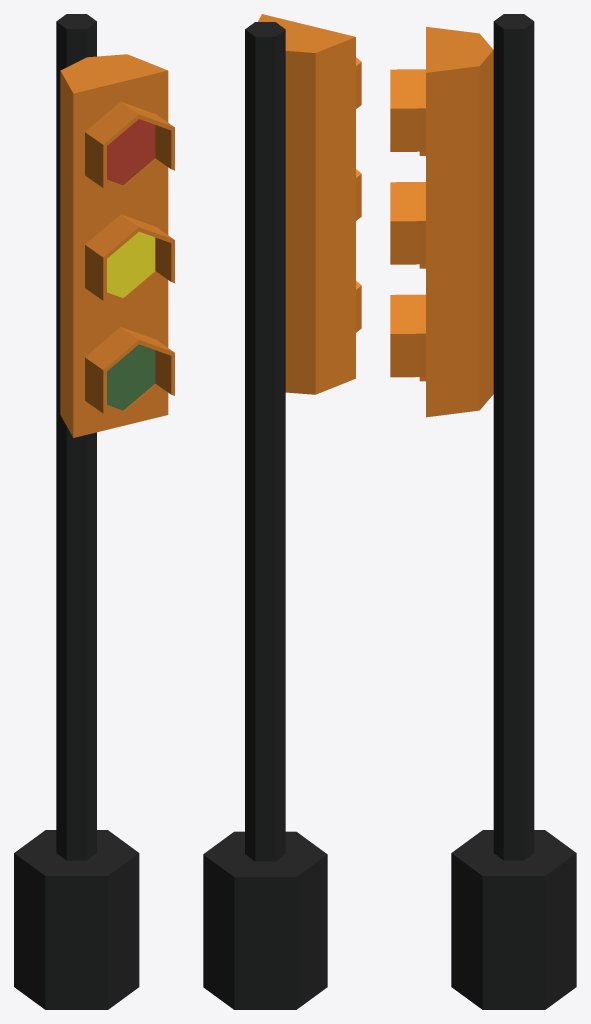
File: Road_Objects_Traffic_Light.fbx
The picture shows the model from 3 angles, left to right: view 1: azimuth 30°, elevation 25°; view 2: azimuth 150°, elevation 25°; view 3: azimuth 270°, elevation 25°; orthographic projection.
Visible parts, largest first — view 1: Road_Objects_Traffic_Light; view 2: Road_Objects_Traffic_Light; view 3: Road_Objects_Traffic_Light.
Boxes of the visible parts, <box> form: Road_Objects_Traffic_Light: <box>14,14,174,1009</box>; Road_Objects_Traffic_Light: <box>203,14,361,1009</box>; Road_Objects_Traffic_Light: <box>390,14,576,1009</box>.
Size of the model in its own units: 36.99 by 360 by 63.01.
